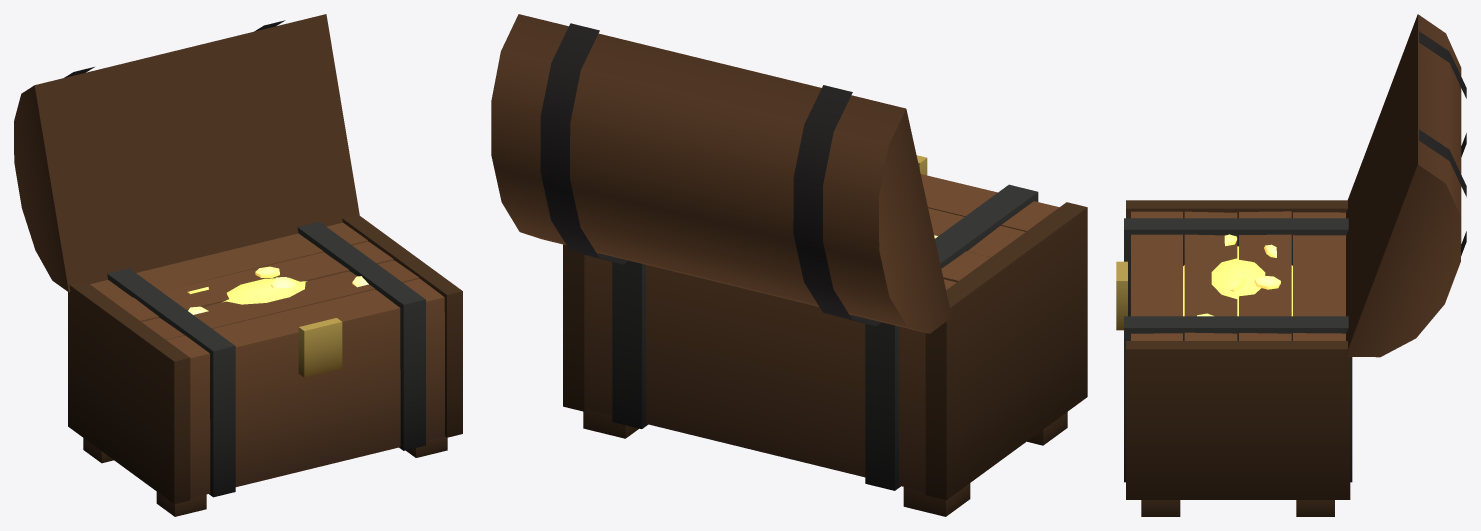
The model's file is chest_open.glb.
The picture shows the model from 3 angles, left to right: view 1: azimuth 30°, elevation 25°; view 2: azimuth 150°, elevation 25°; view 3: azimuth 270°, elevation 25°; orthographic projection. The views are drawn at different scales.
Visible parts, largest first — view 1: chest_open_trim, chest_open_glow; view 2: chest_open_trim; view 3: chest_open_trim, chest_open_glow.
Part boxes in pixels (left/top/right/bottom): chest_open_trim: left=14, top=14, right=462, bottom=516; chest_open_glow: left=187, top=266, right=368, bottom=314; chest_open_trim: left=491, top=14, right=1087, bottom=516; chest_open_trim: left=1116, top=14, right=1466, bottom=516; chest_open_glow: left=1183, top=234, right=1292, bottom=316.
Size of the model in its own units: 0.92 by 1.03 by 0.9055.
